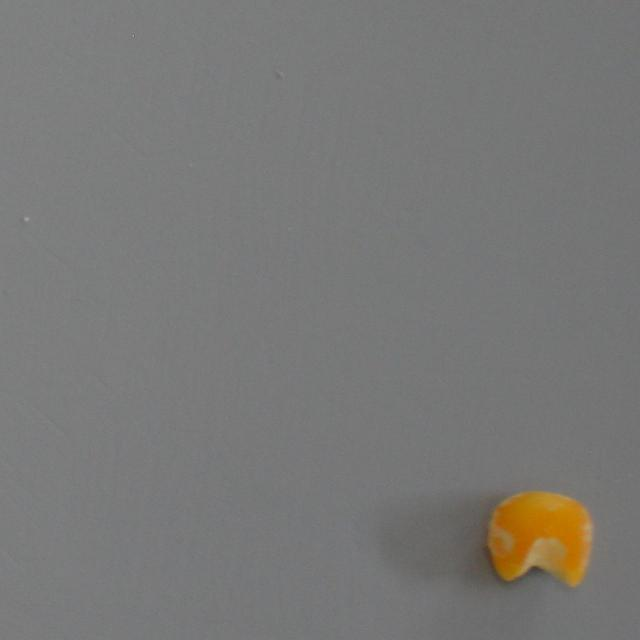pelicula: (484, 488, 594, 588)
